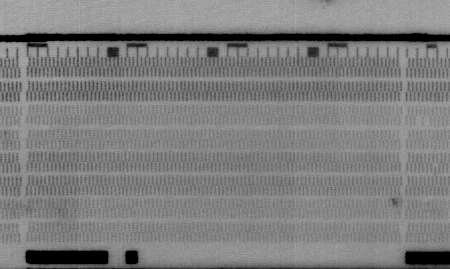Broken hole: (414, 115, 430, 128)
Oblique printing: (429, 162, 441, 177)
